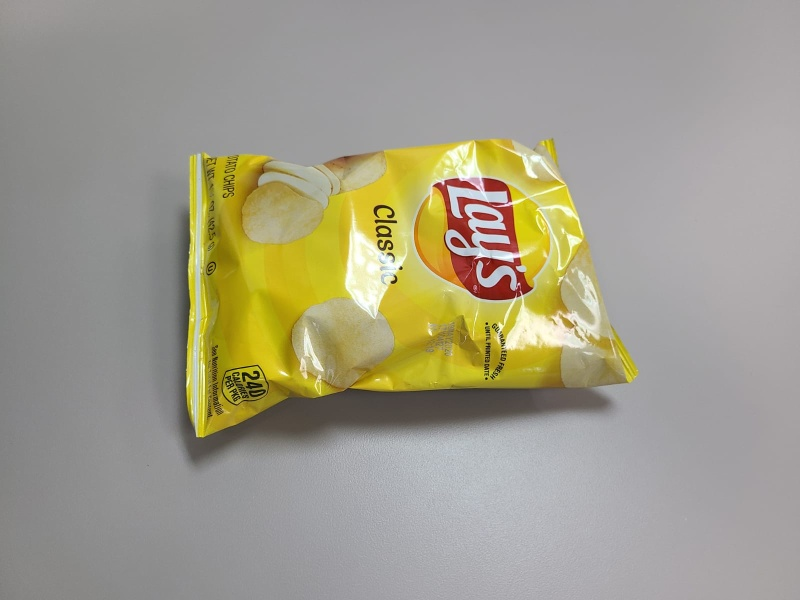lays: (171, 146, 658, 439)
